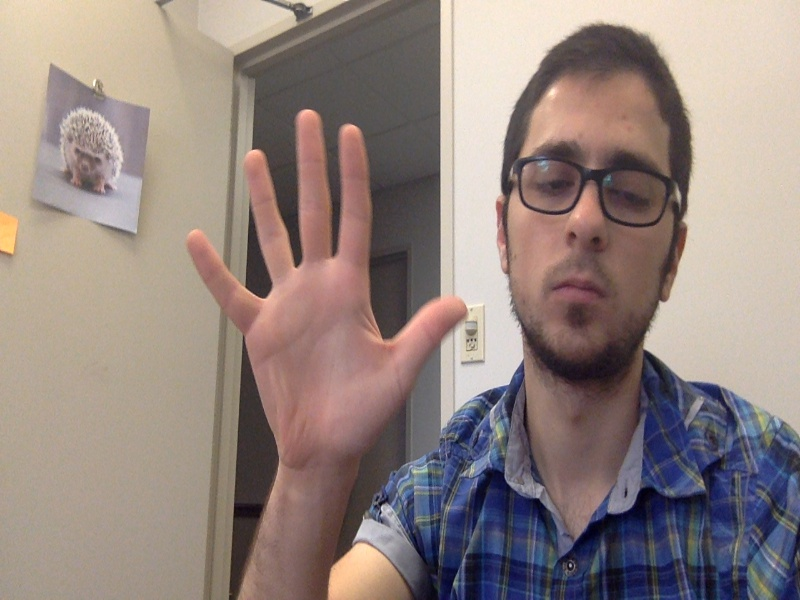5-hand: (188, 108, 465, 467)
